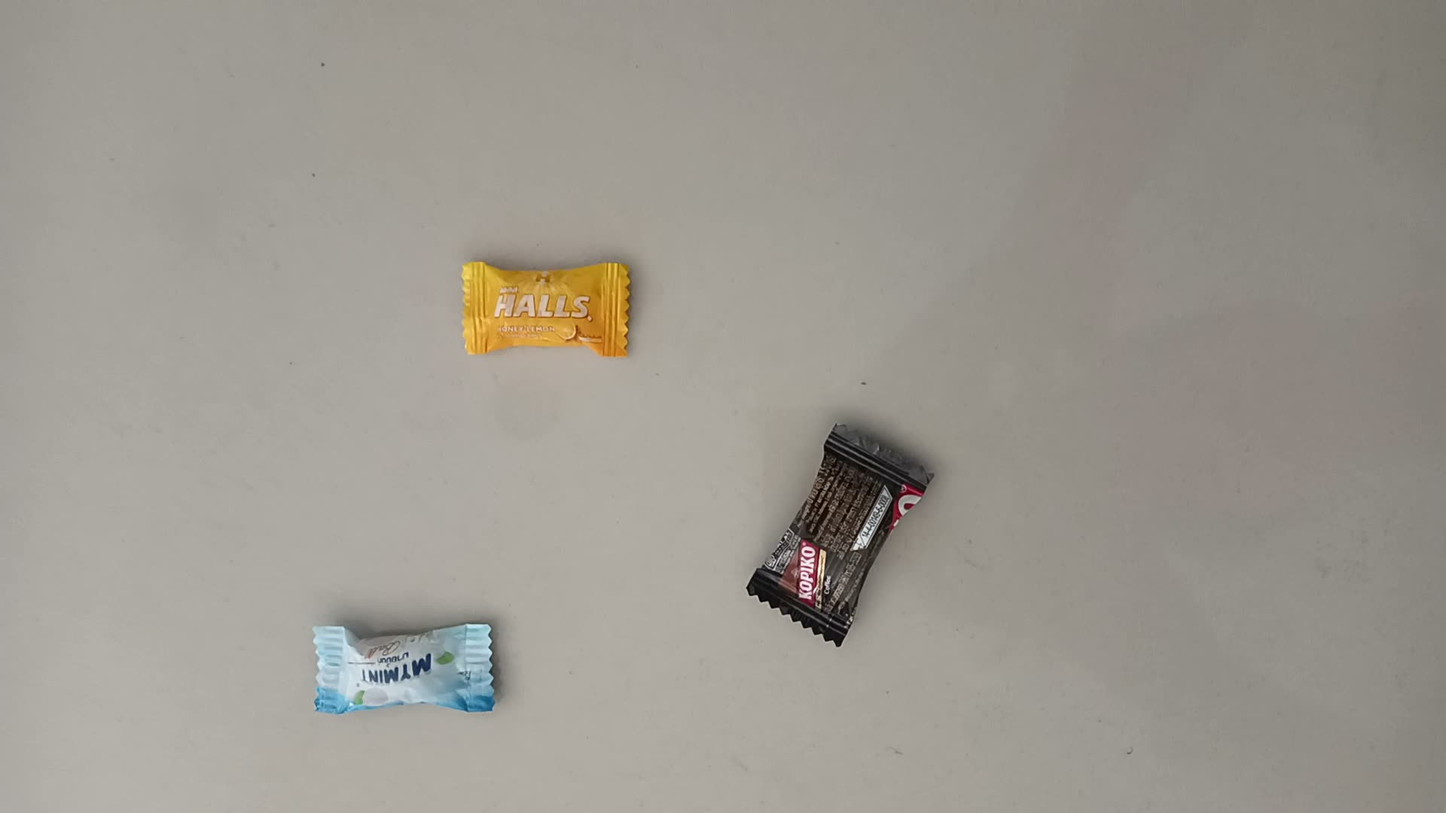HALLS: (447, 255, 630, 364)
KOPIKO: (842, 408, 957, 617)
MYM: (309, 610, 507, 720)
